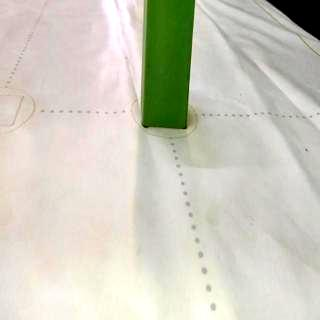greenbox: (144, 0, 195, 128)
